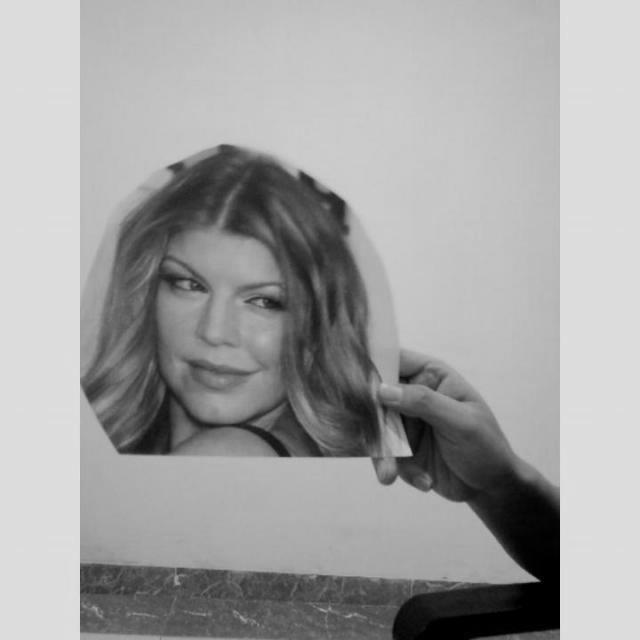fake: (80, 135, 430, 470)
